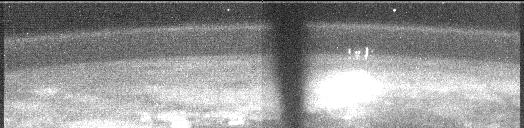positive: (346, 44, 371, 66)
